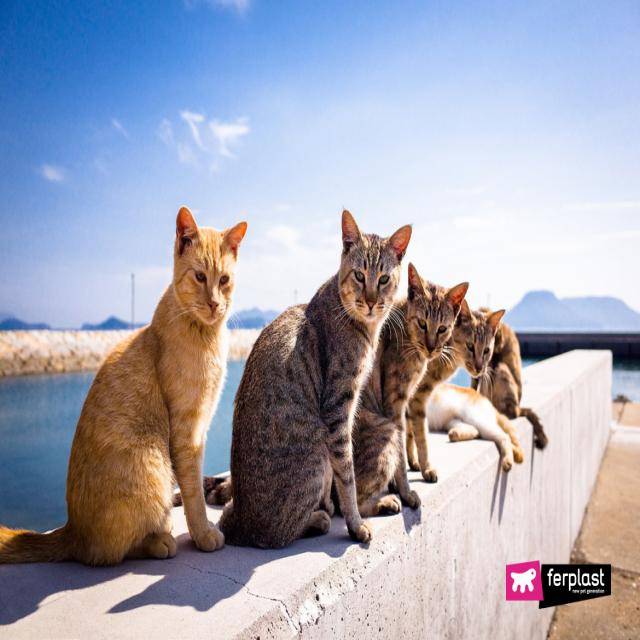cat: (0, 208, 246, 566), (220, 210, 411, 548), (352, 264, 468, 516), (406, 300, 504, 482), (471, 322, 548, 450), (426, 384, 524, 472)
